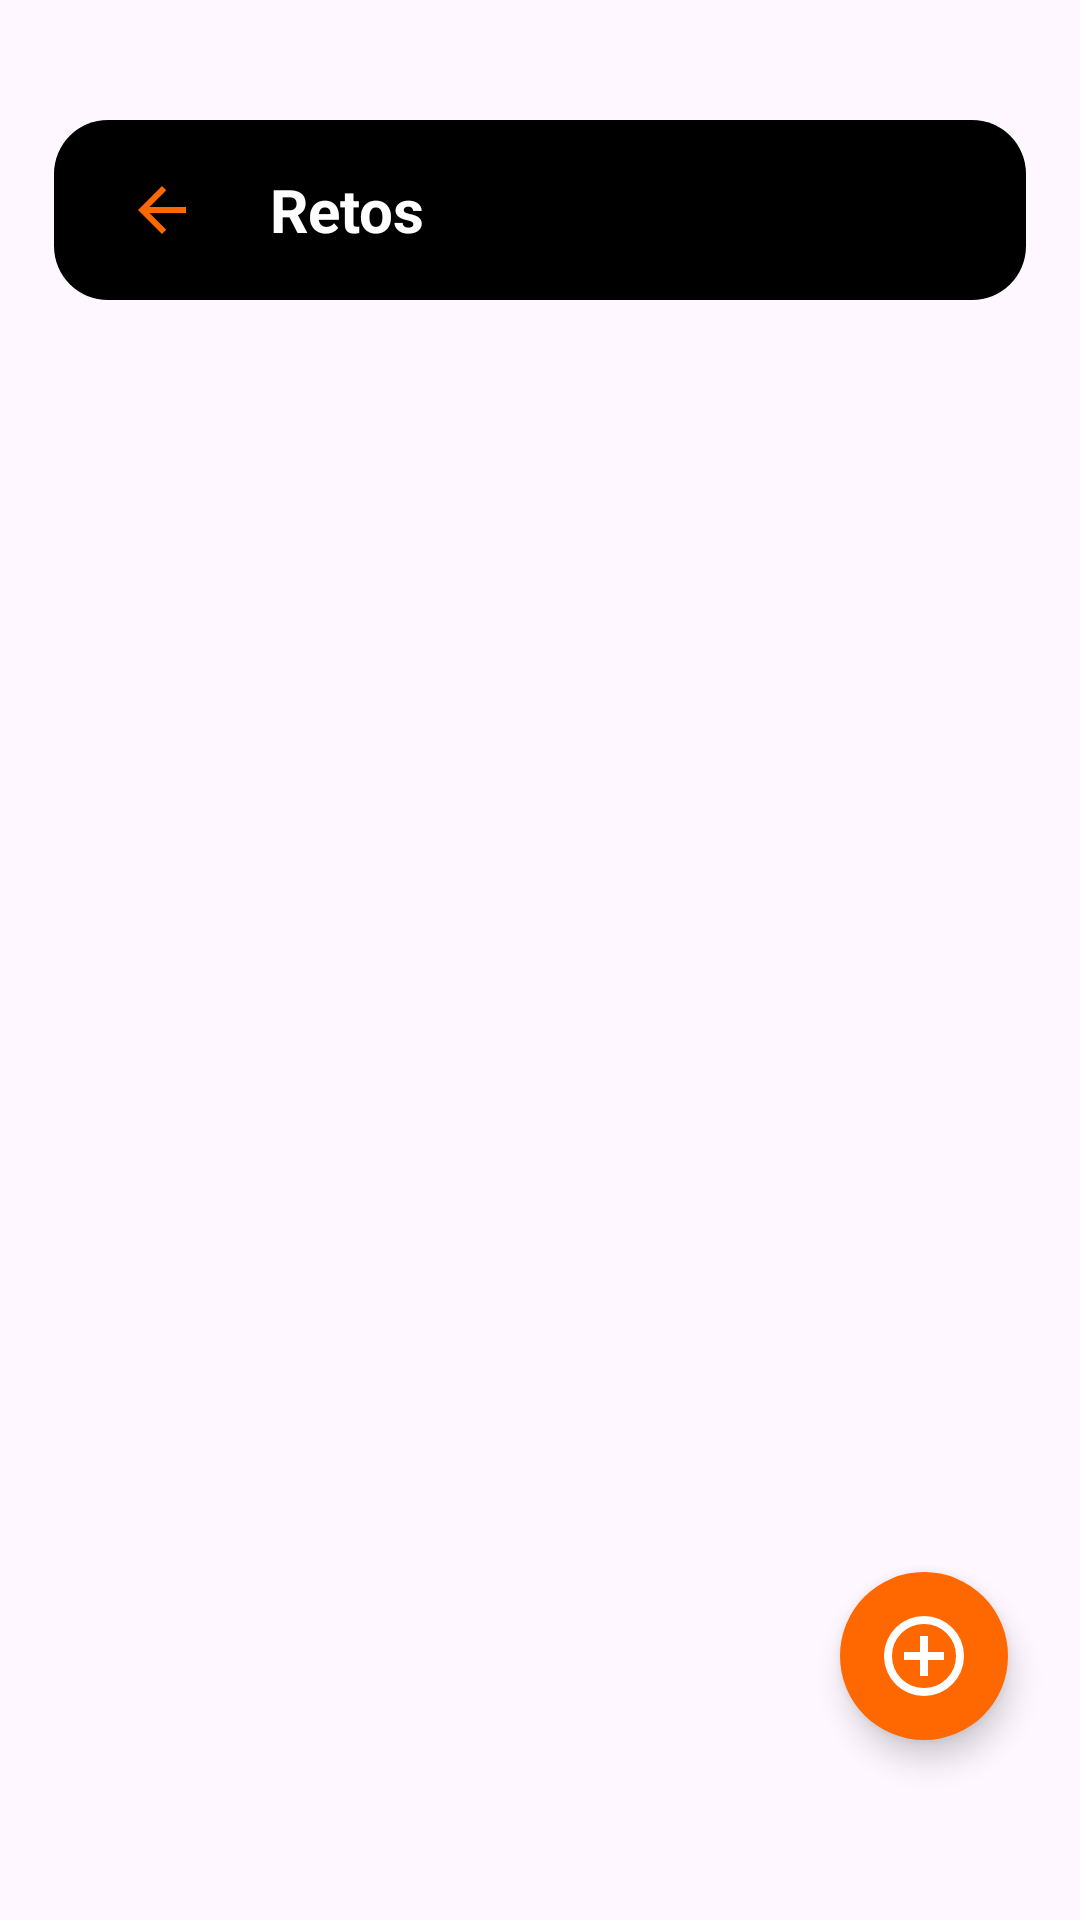

Named icons in this screenshot (1080w x 1920h) and their centers, (x,y):
add: (924,1656)
arrow back: (162,210)
